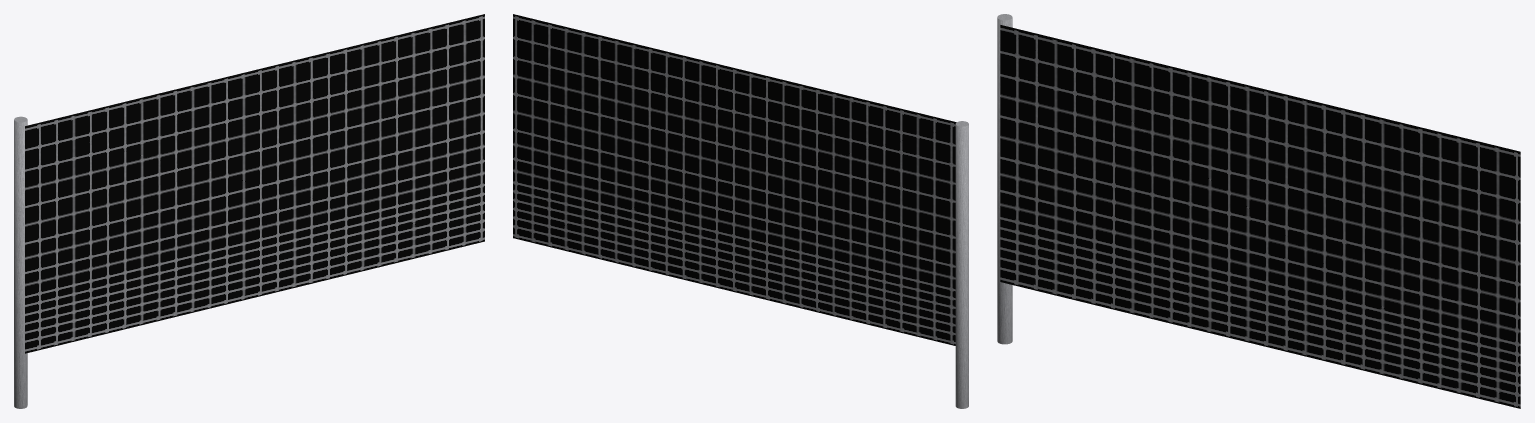
File: fence-tall-mesh-pole-1s-cbj_LOD00.gltf
The picture shows the model from 3 angles, left to right: view 1: azimuth 30°, elevation 25°; view 2: azimuth 150°, elevation 25°; view 3: azimuth 330°, elevation 25°; orthographic projection. The views are drawn at different scales.
Visible parts, largest first — view 1: Cube; view 2: Cube; view 3: Cube.
Boxes of the visible parts, left/top/right/bottom form: Cube: left=14, top=14, right=484, bottom=408; Cube: left=513, top=14, right=968, bottom=408; Cube: left=997, top=14, right=1520, bottom=408.
Bounding box in the file's own units: 3.96 × 2.33 × 0.11.
